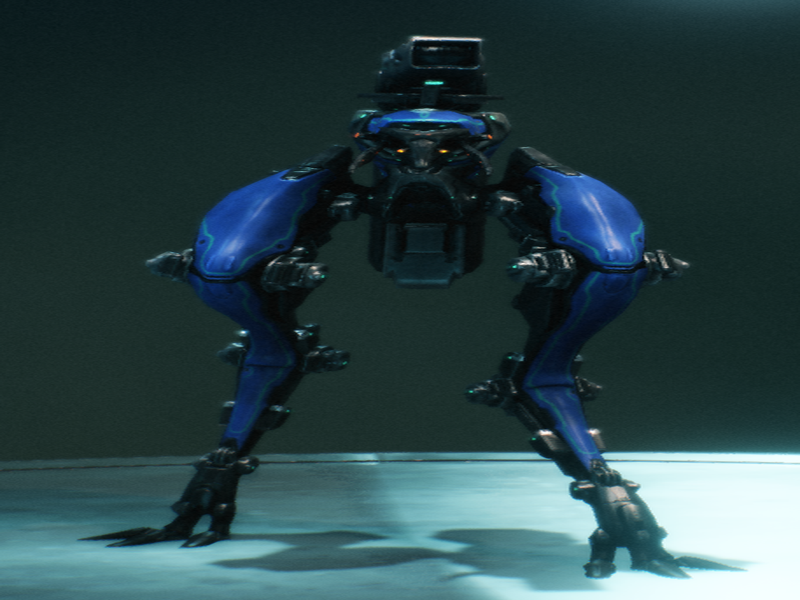railgun_corpus: (83, 29, 744, 592)
